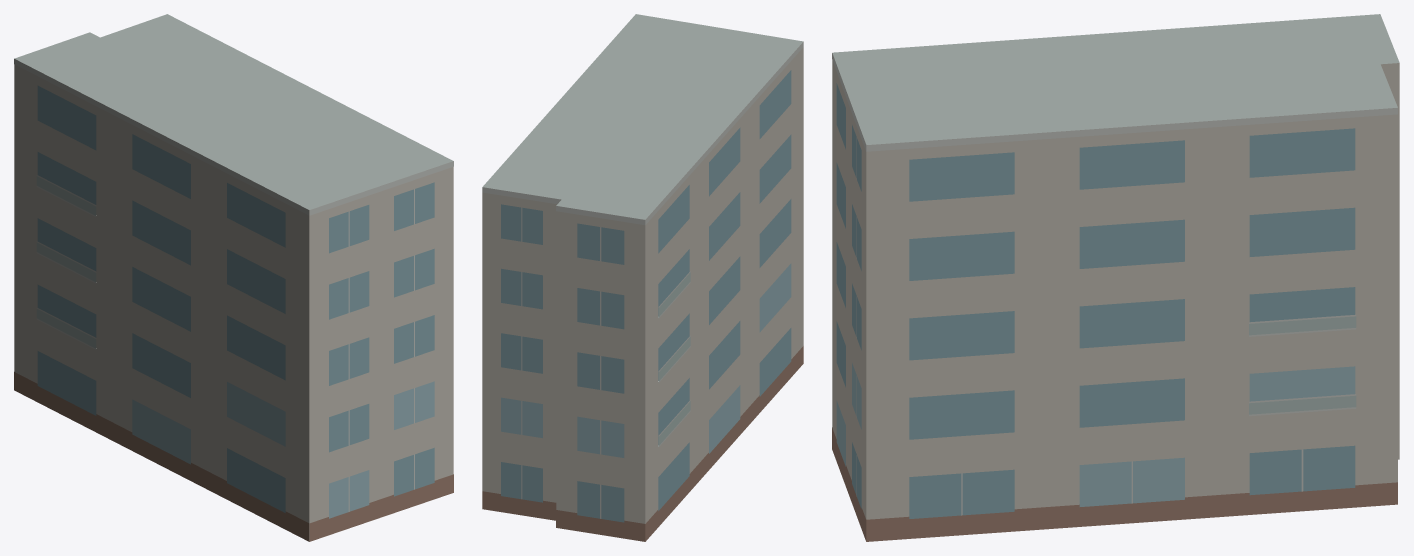
The model's file is survey-upis-33014433.glb.
3 views of the same model, side by side, from view 1: azimuth 30°, elevation 25°; view 2: azimuth 150°, elevation 25°; view 3: azimuth 270°, elevation 25° (orthographic). The views are drawn at different scales.
Parts seen in each view (by area): view 1: survey-upis-33014433.tmp; view 2: survey-upis-33014433.tmp; view 3: survey-upis-33014433.tmp.
Part boxes in pixels (x1,y1,x2,y2): survey-upis-33014433.tmp: (14,14,453,541); survey-upis-33014433.tmp: (482,14,803,541); survey-upis-33014433.tmp: (832,14,1399,541).
Size of the model in its own units: 10.29 by 14.5 by 18.81.
